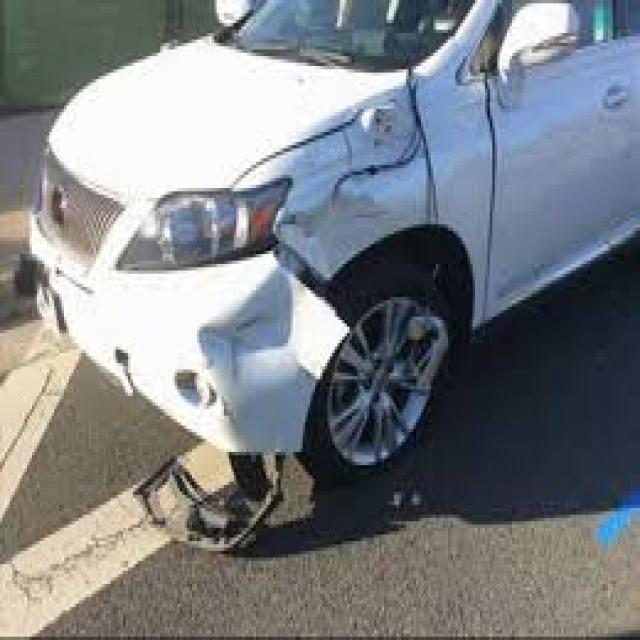minor: (196, 131, 397, 469)
